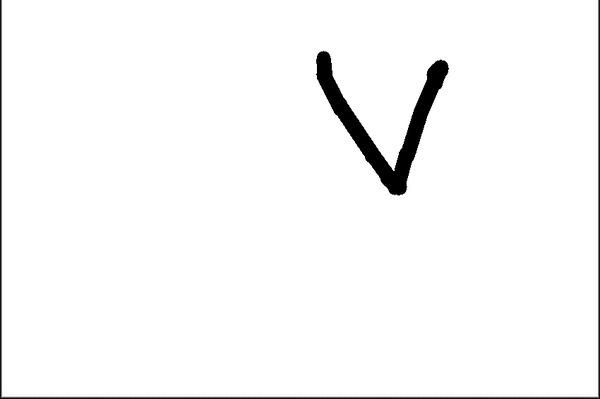V: (299, 42, 453, 199)
